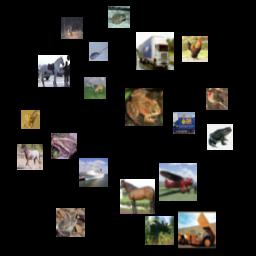airplane: (159, 163, 197, 201), (89, 42, 108, 61)
bird: (182, 36, 208, 62), (206, 88, 228, 110)
deer: (145, 216, 174, 245), (84, 77, 106, 99), (61, 17, 83, 39)
frog: (125, 88, 163, 126), (56, 208, 85, 237), (207, 124, 233, 150), (51, 133, 77, 159), (108, 6, 130, 28), (21, 110, 40, 129)
ship: (79, 158, 108, 187)
truck: (136, 32, 174, 70), (178, 211, 216, 249), (173, 112, 195, 134)
